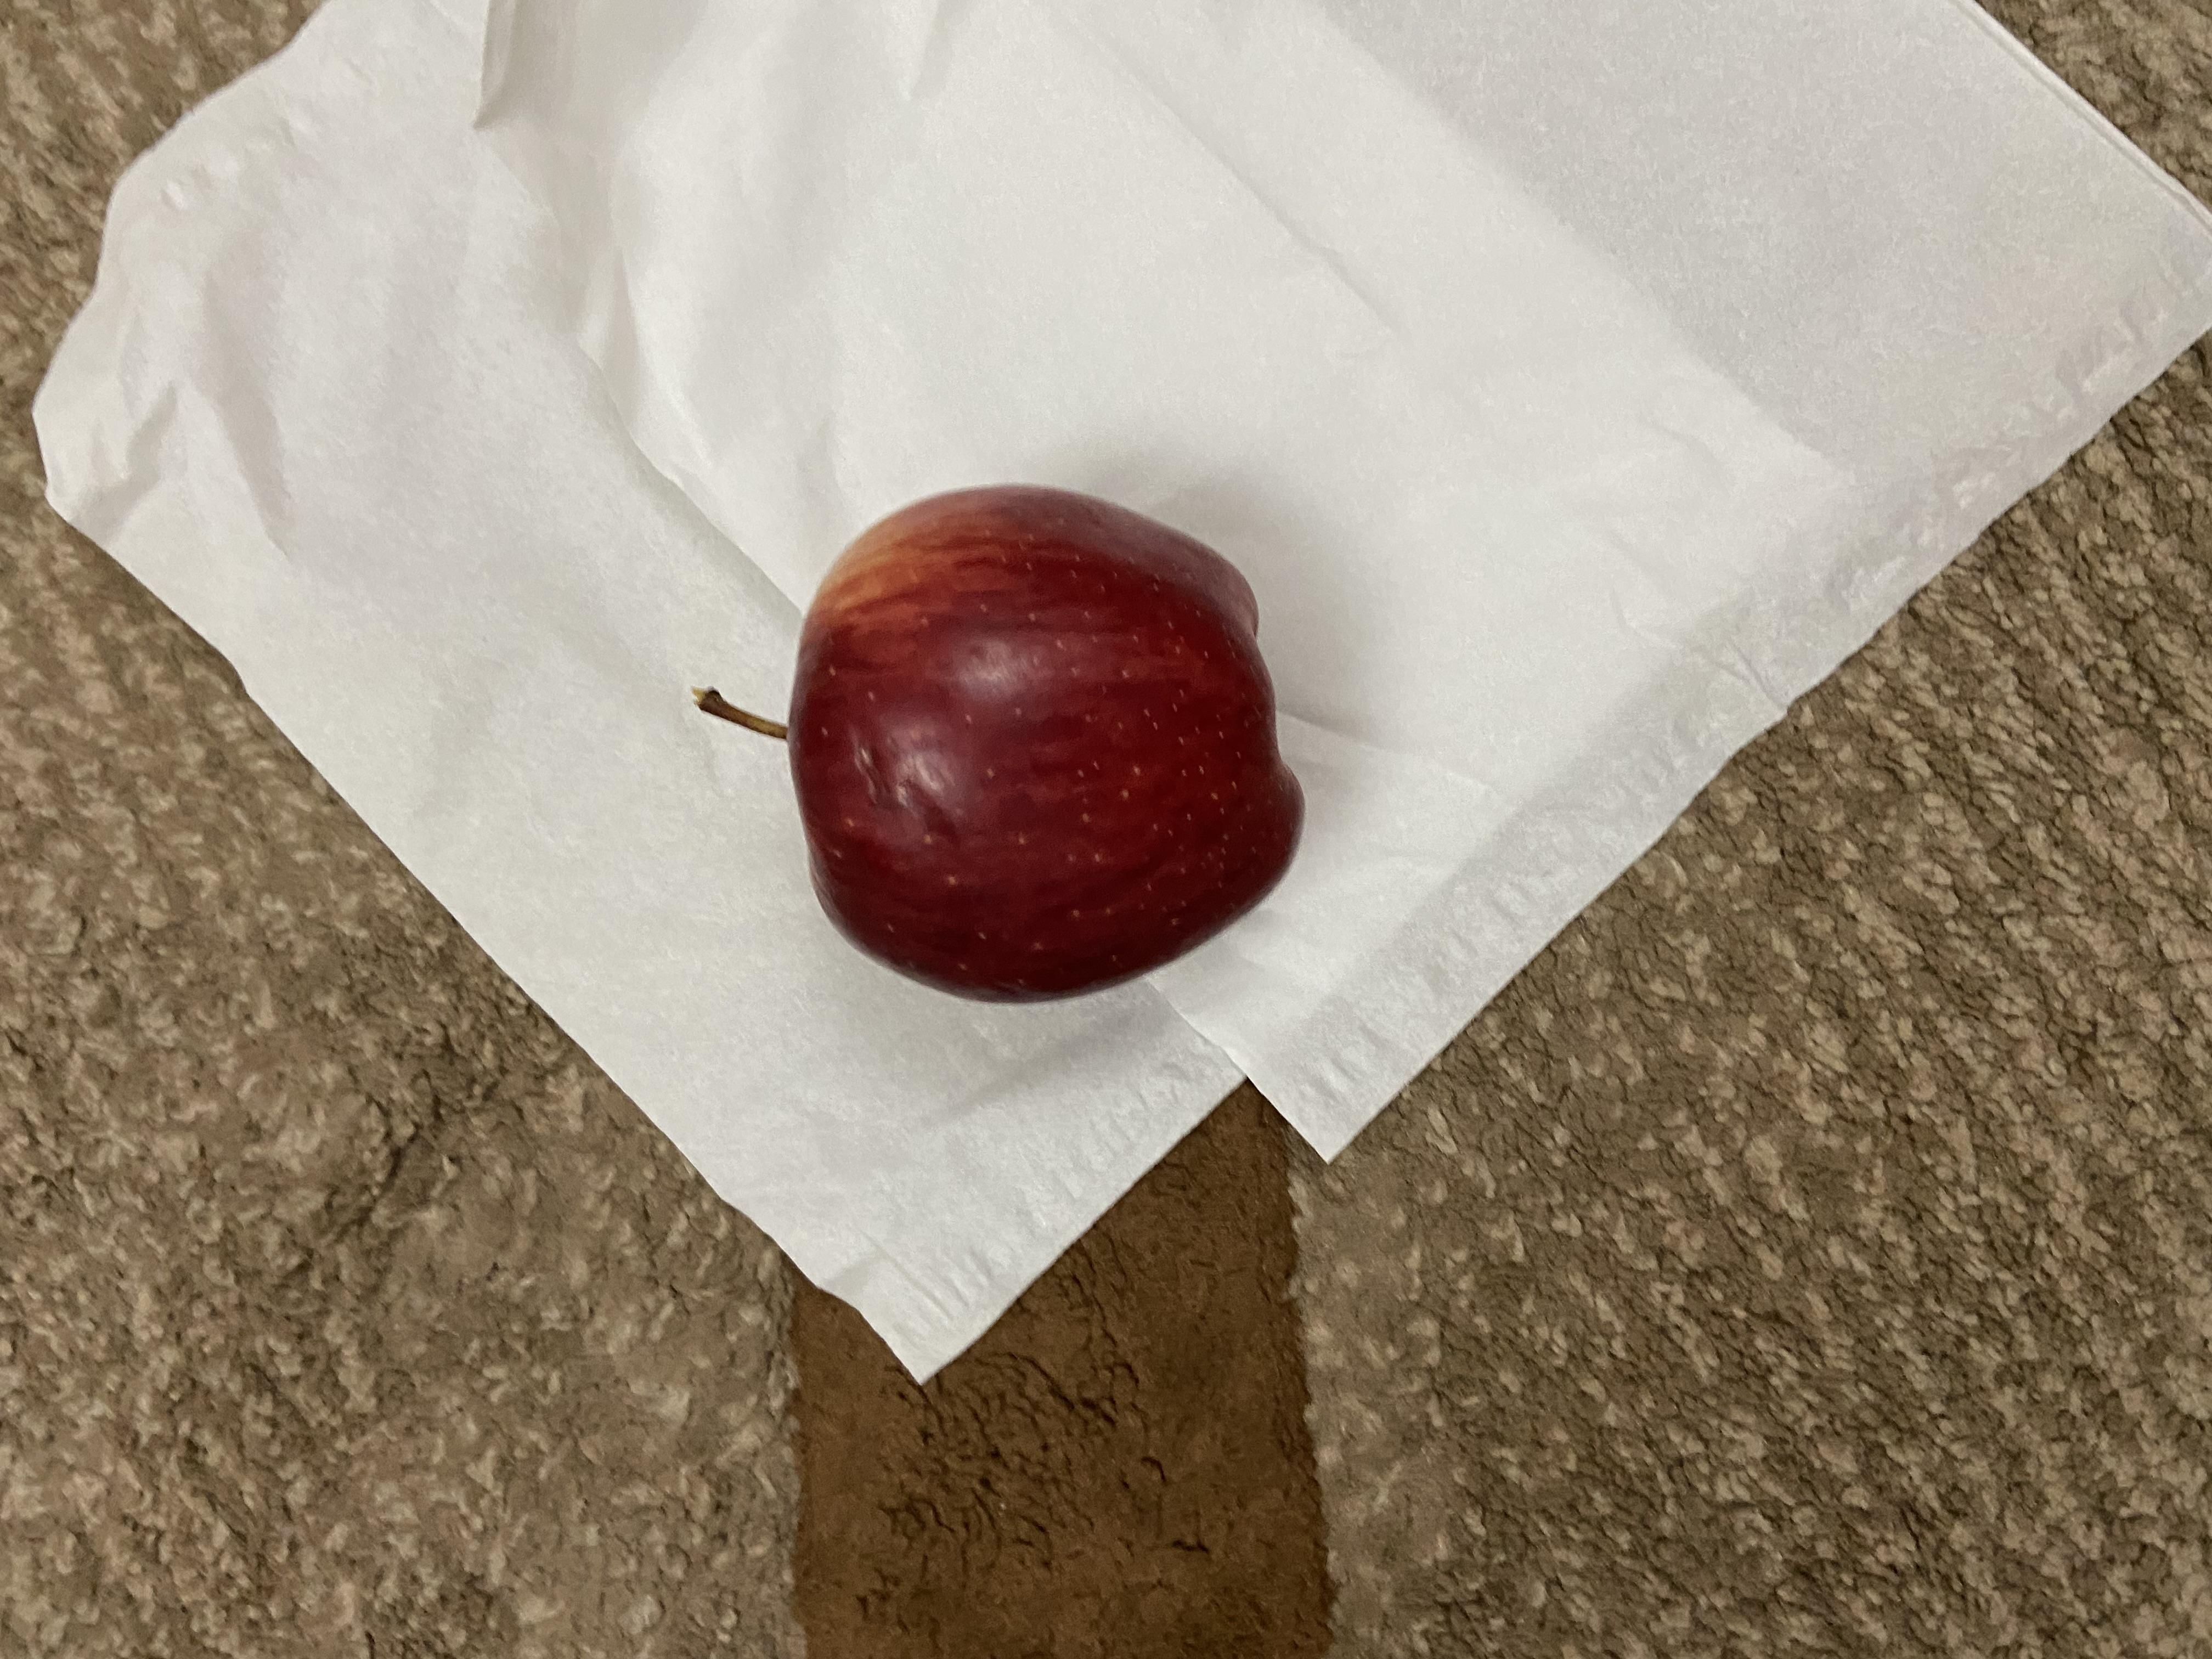Apple: (866, 514, 1588, 983)
